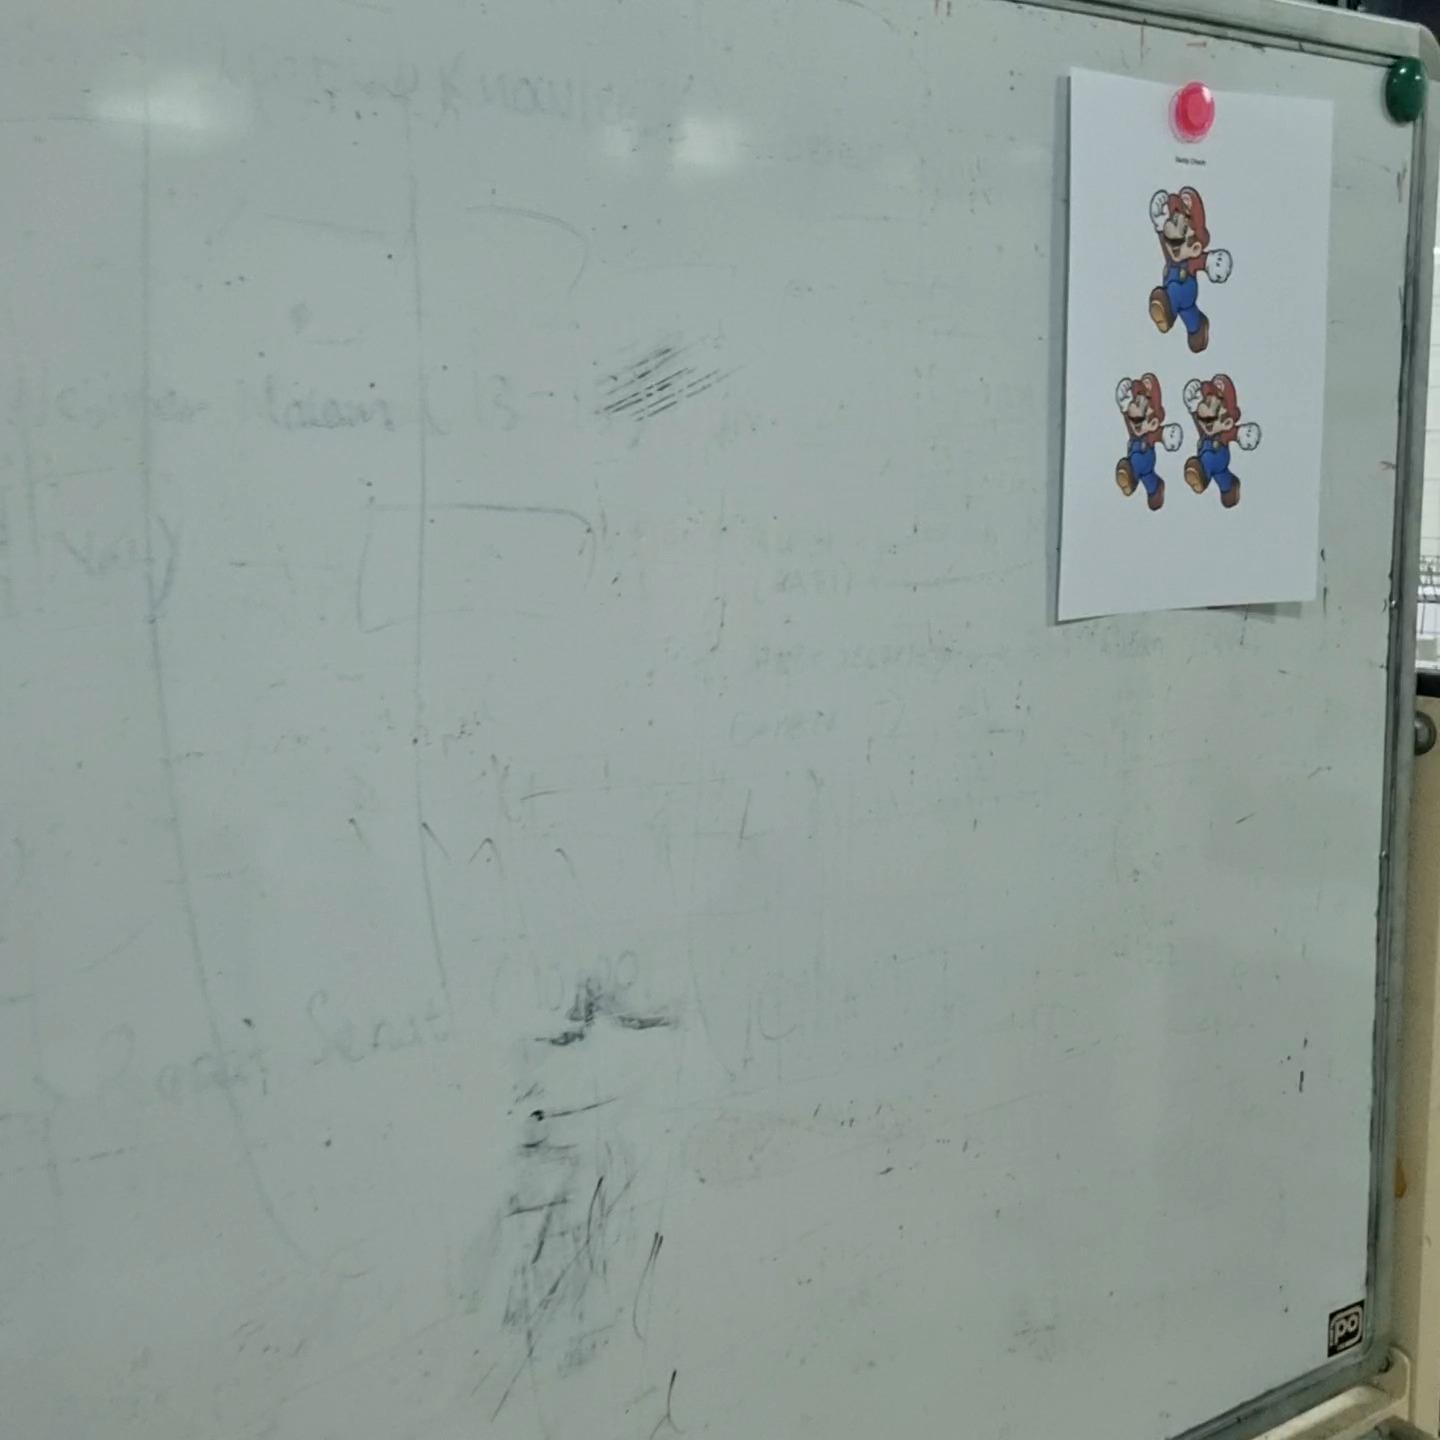mario: (1141, 177, 1236, 356), (1178, 370, 1274, 514), (1107, 367, 1186, 514)
